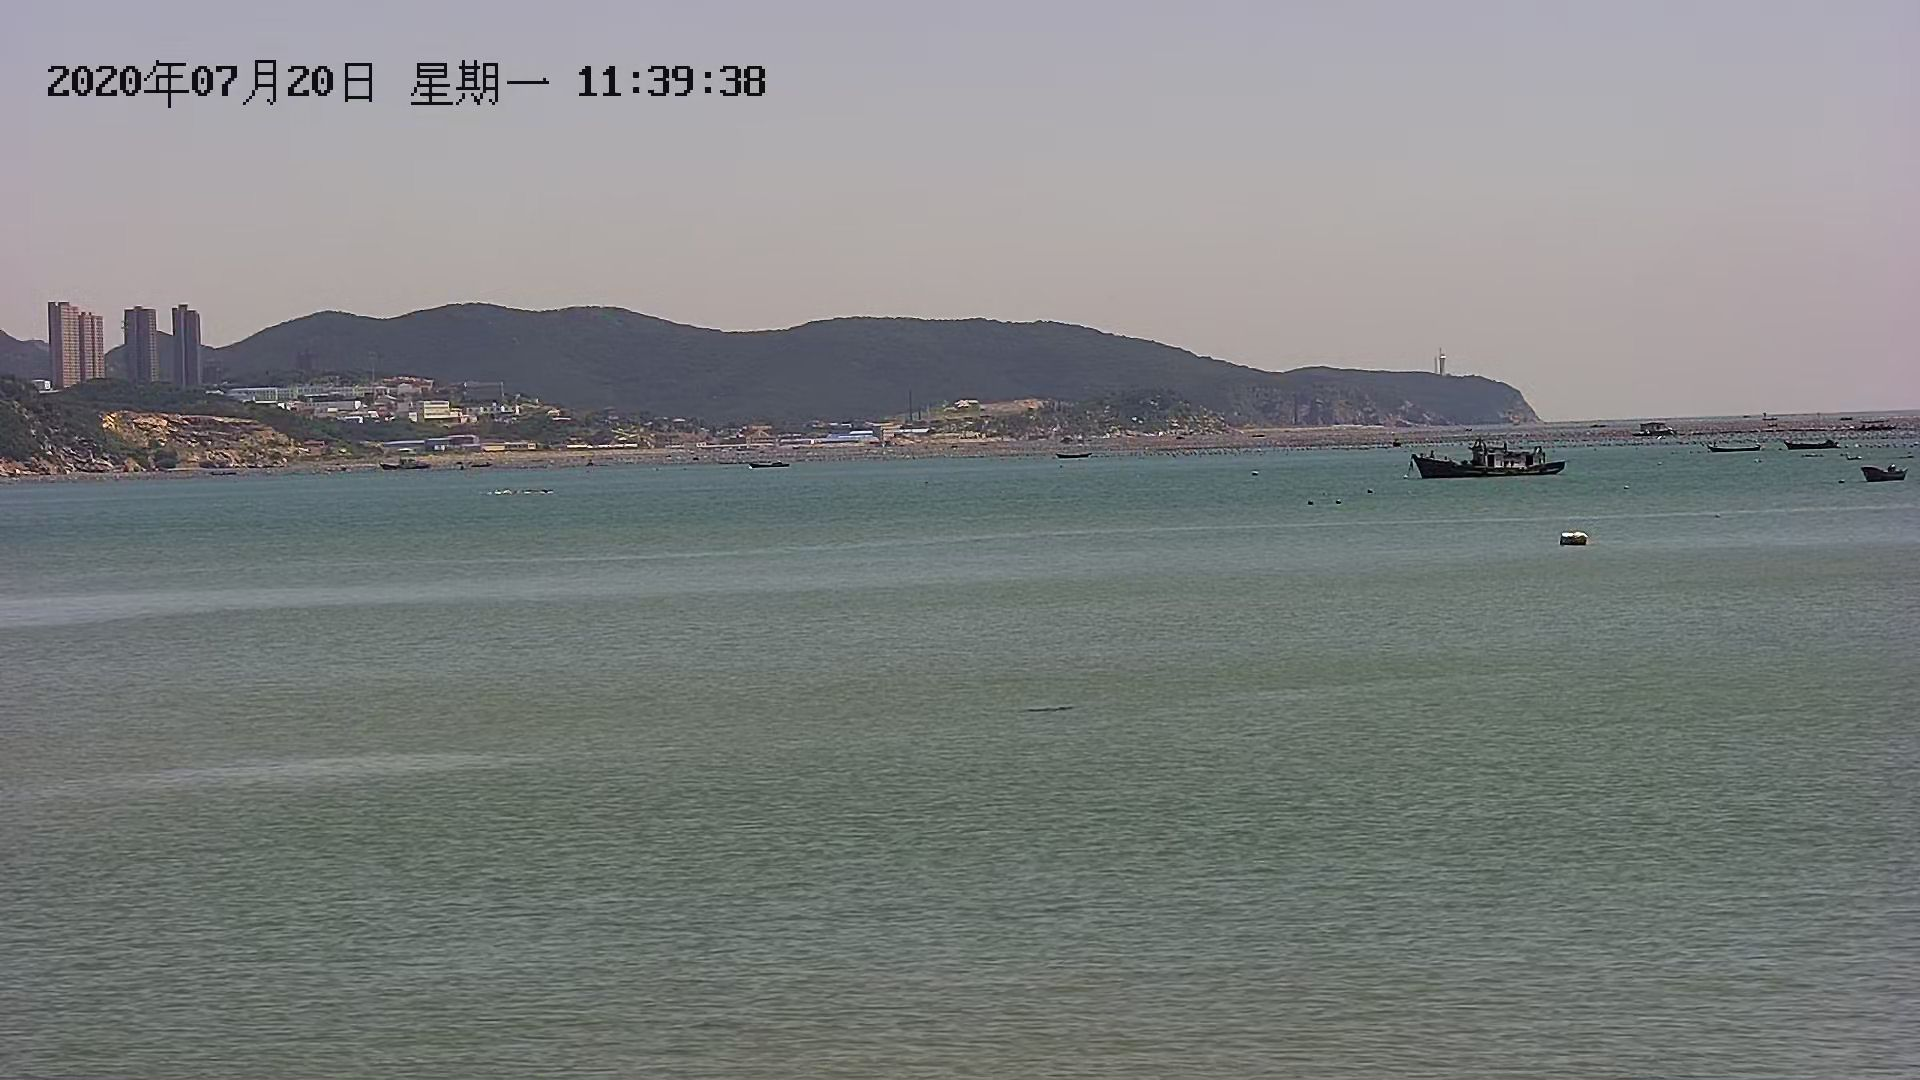ball: (1557, 524, 1596, 550)
boat: (1400, 446, 1577, 480), (1855, 462, 1917, 491)
